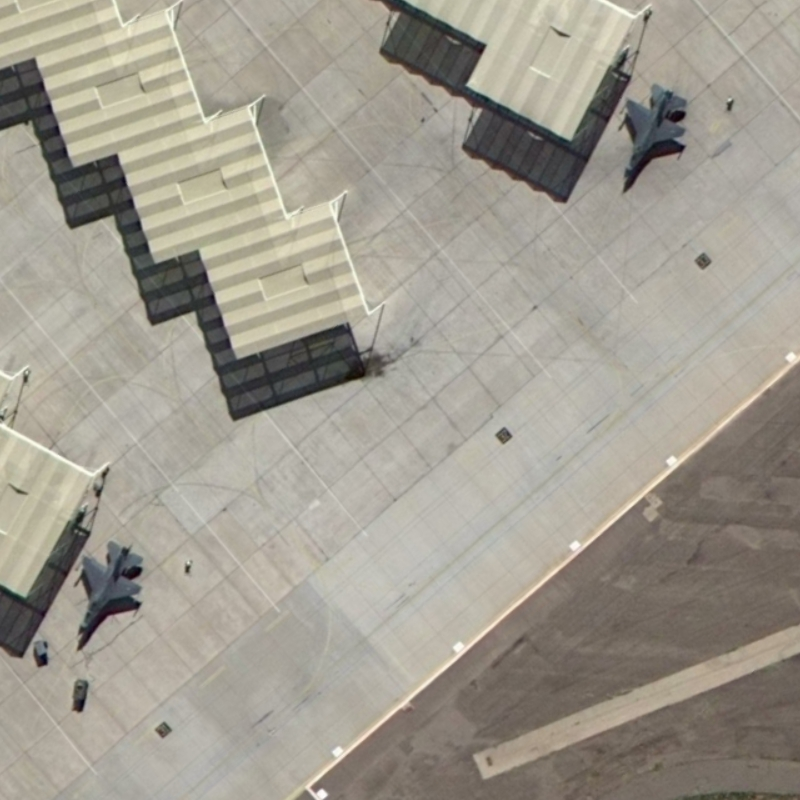A5: (69, 535, 148, 639), (618, 78, 690, 182)
